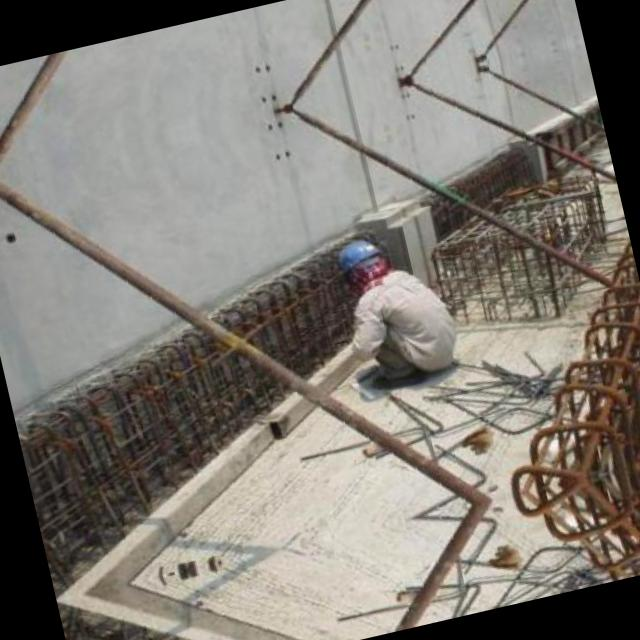helmet: (327, 230, 394, 294)
